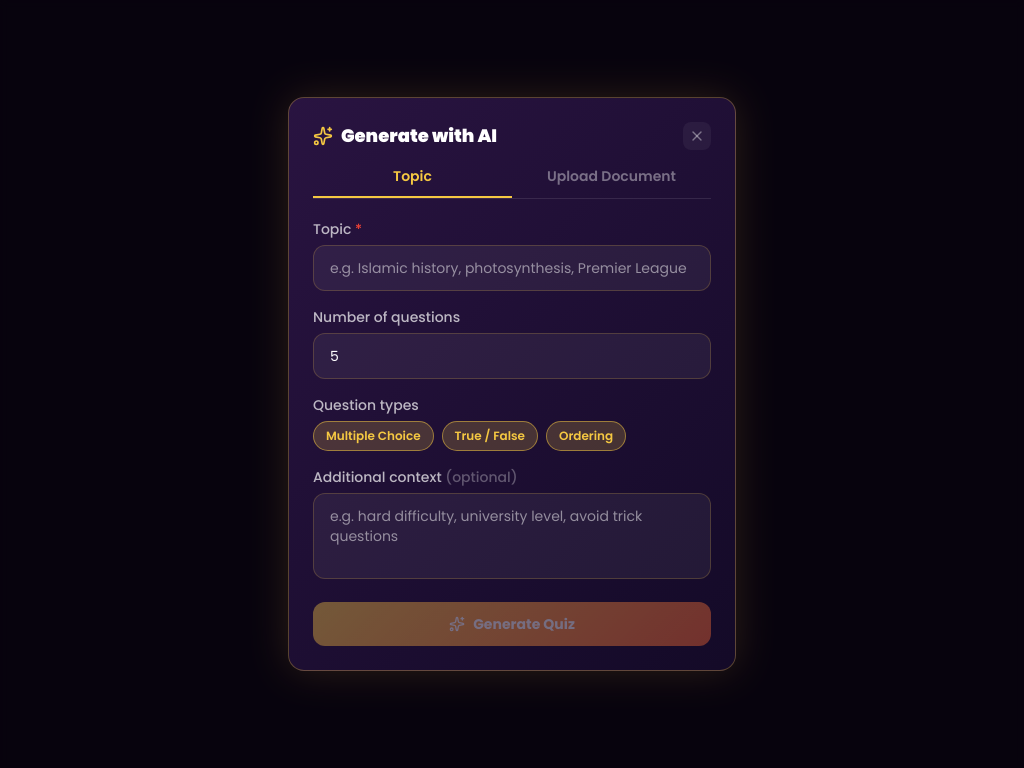
Test: GenerateQuizModal › switches to Upload tab and shows file picker
The image size is (1024, 768).
Click the button "Upload Document". click: (612, 182)
box: [512, 166, 711, 198]
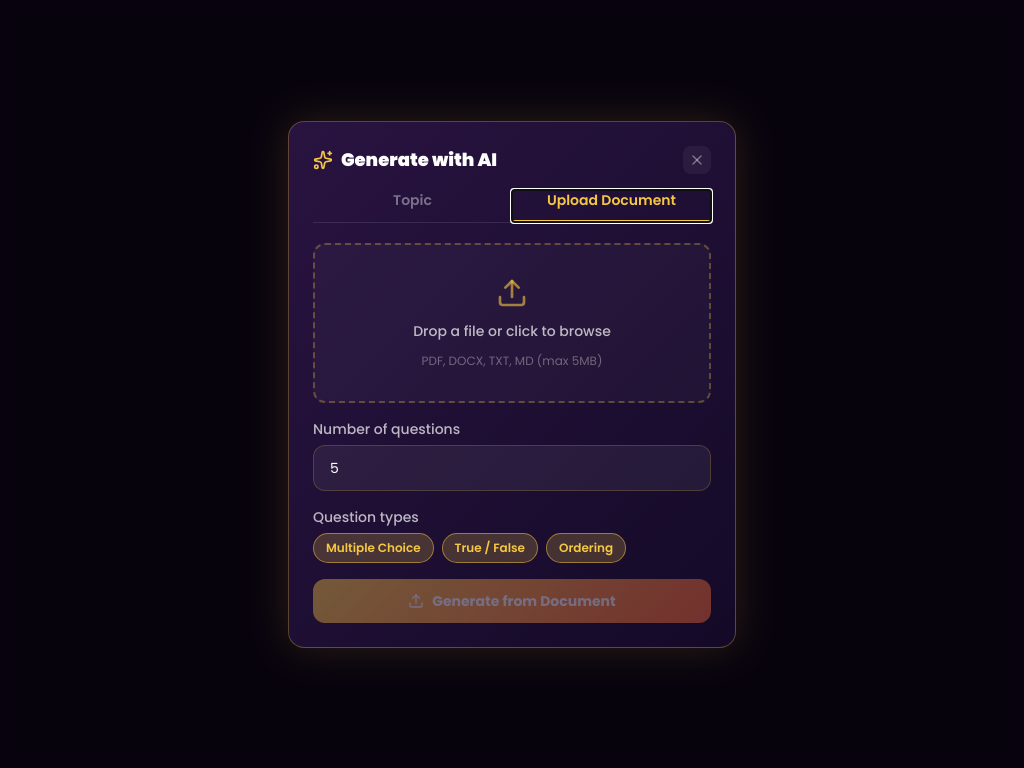
Result: the text "Drop a file or click to browse" is shown at [413, 320, 611, 340]
Result: the text "PDF, DOCX, TXT, MD (max 5MB)" is shown at [422, 352, 602, 368]
